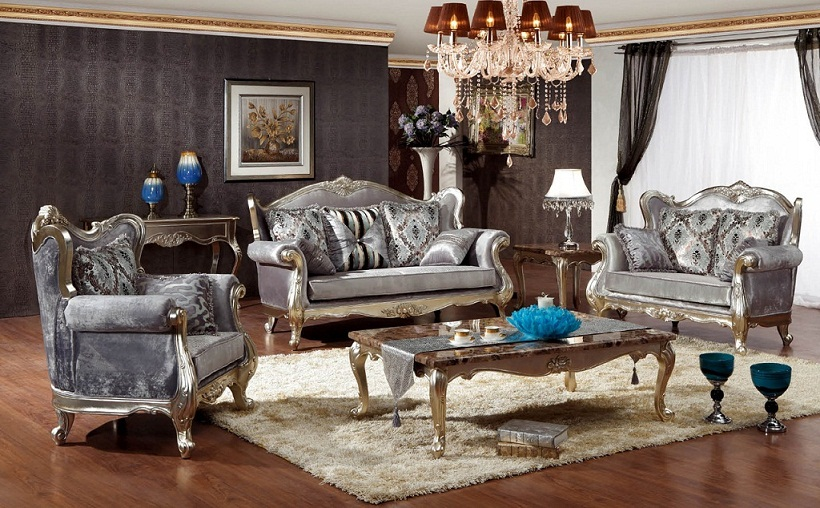Carving Chair: (30, 204, 252, 445), (245, 173, 497, 326), (599, 188, 795, 358)
Carving Table: (354, 314, 678, 437)
